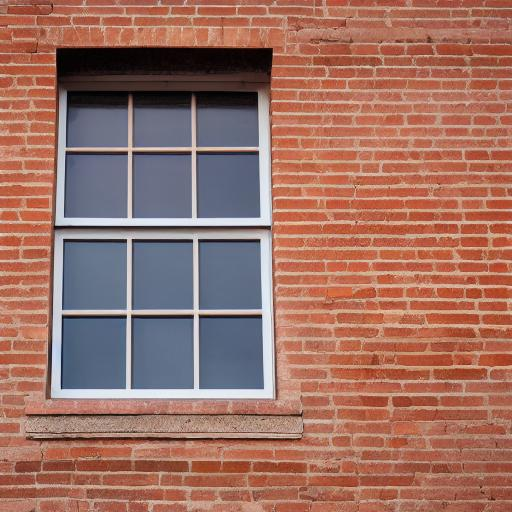Window: (23, 42, 307, 445)
